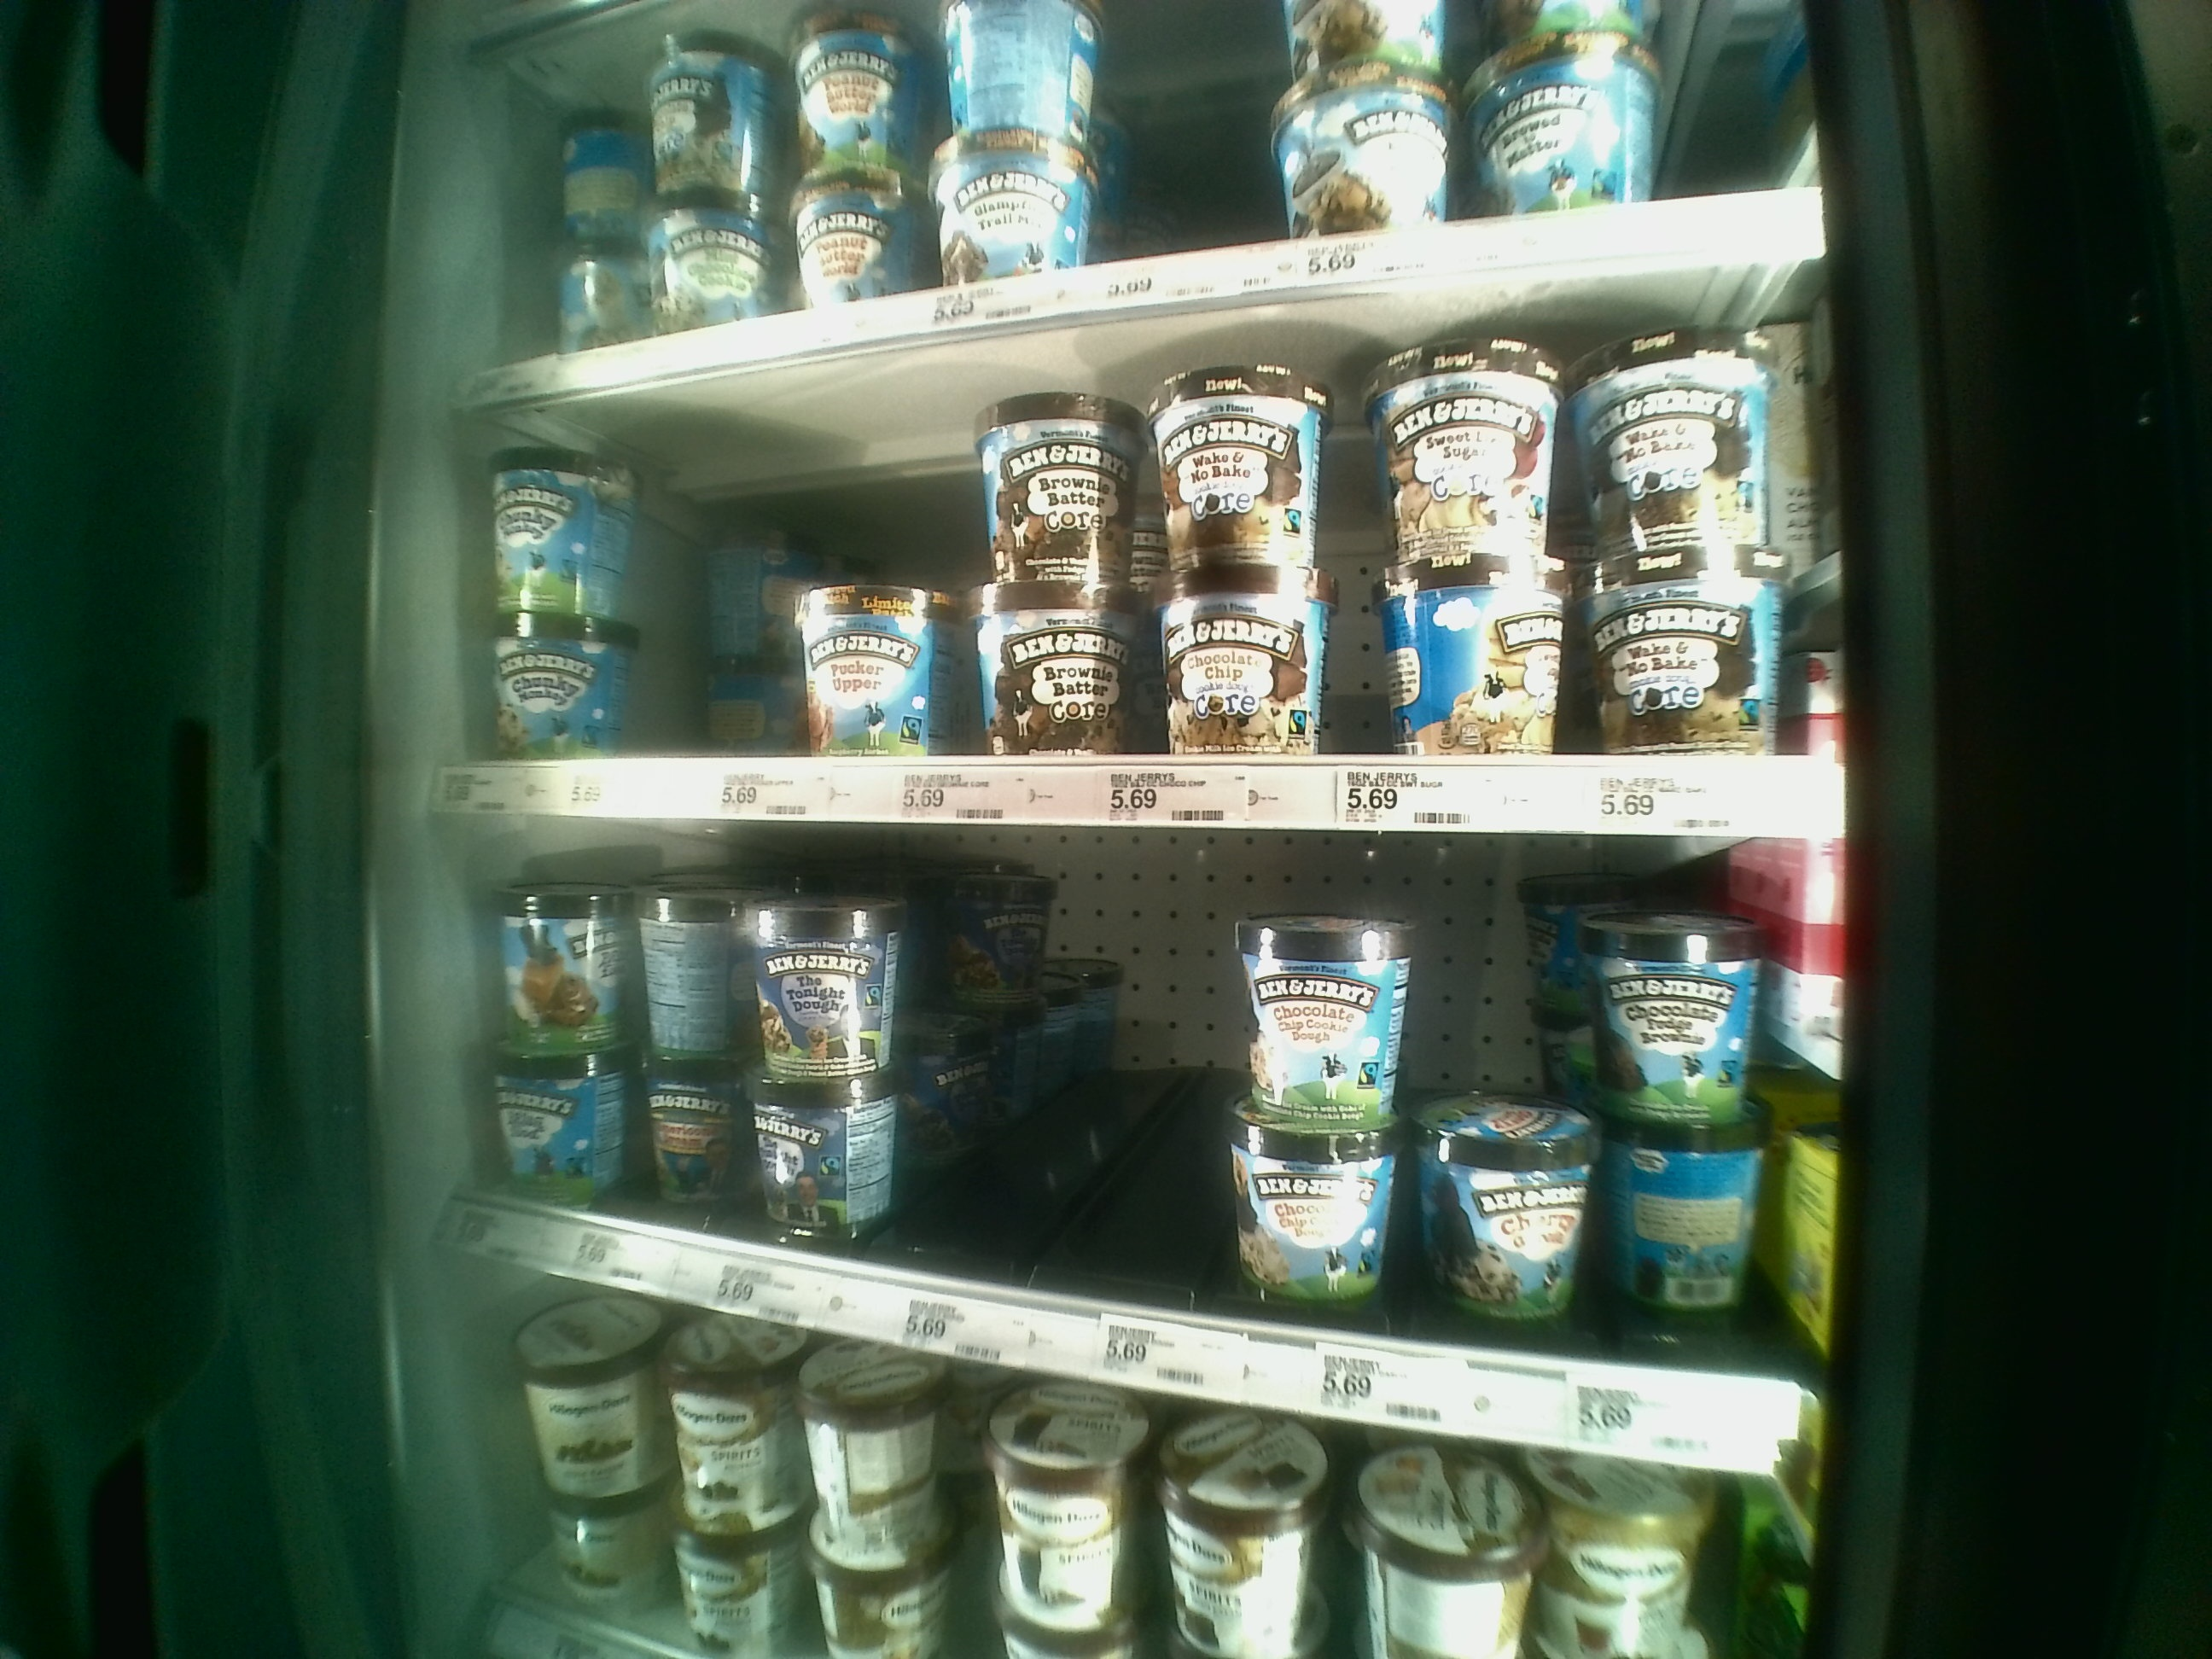ice-cream-shelf: (469, 296, 1844, 829)
